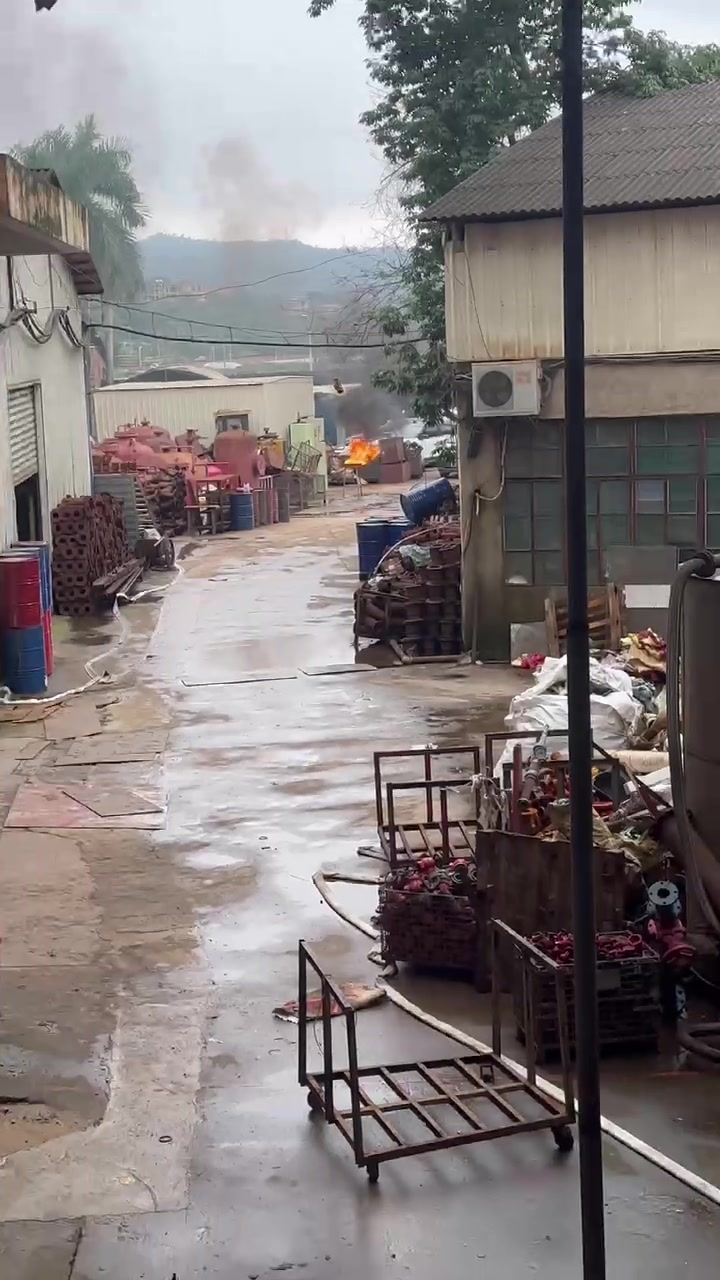fire: (344, 439, 381, 464)
